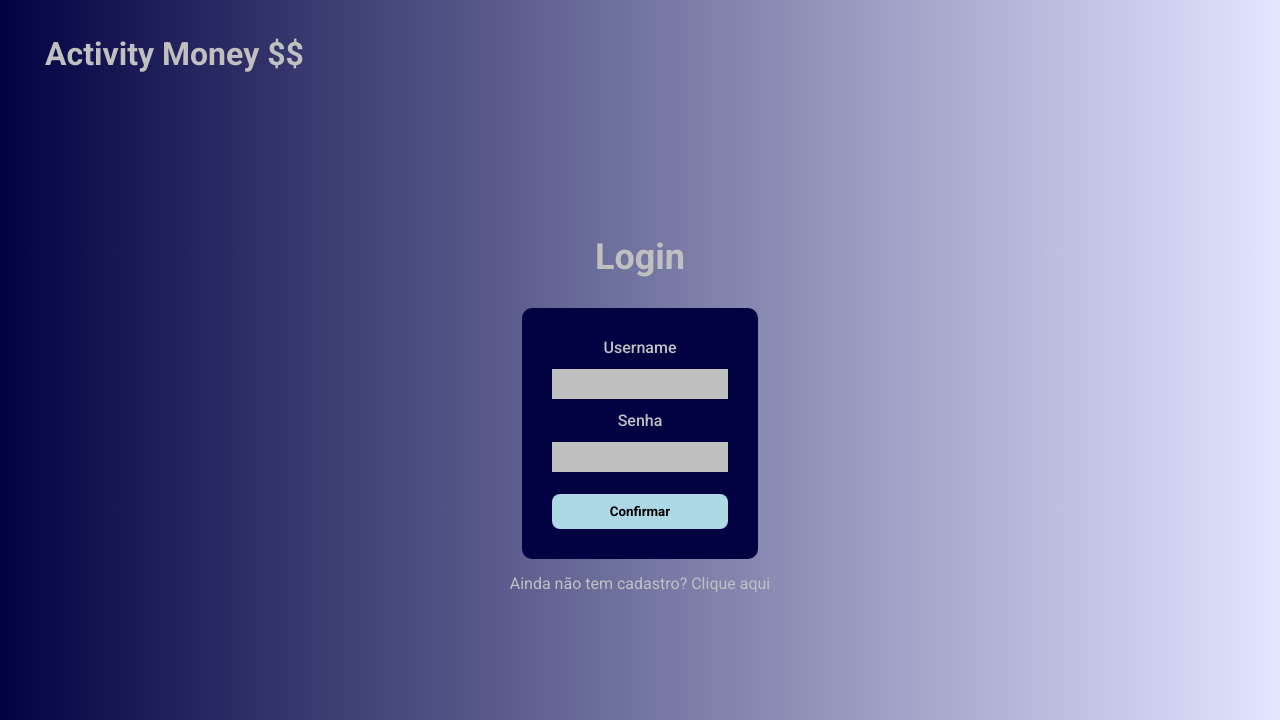
Scenario: Tests the Home page › should go back to Login page when clicks on "Sair"
This screenshot has width=1280, height=720.
Step 1. Type "rafael" into the field with test id "input-username" → point(640, 384), box [552,369,728,399]
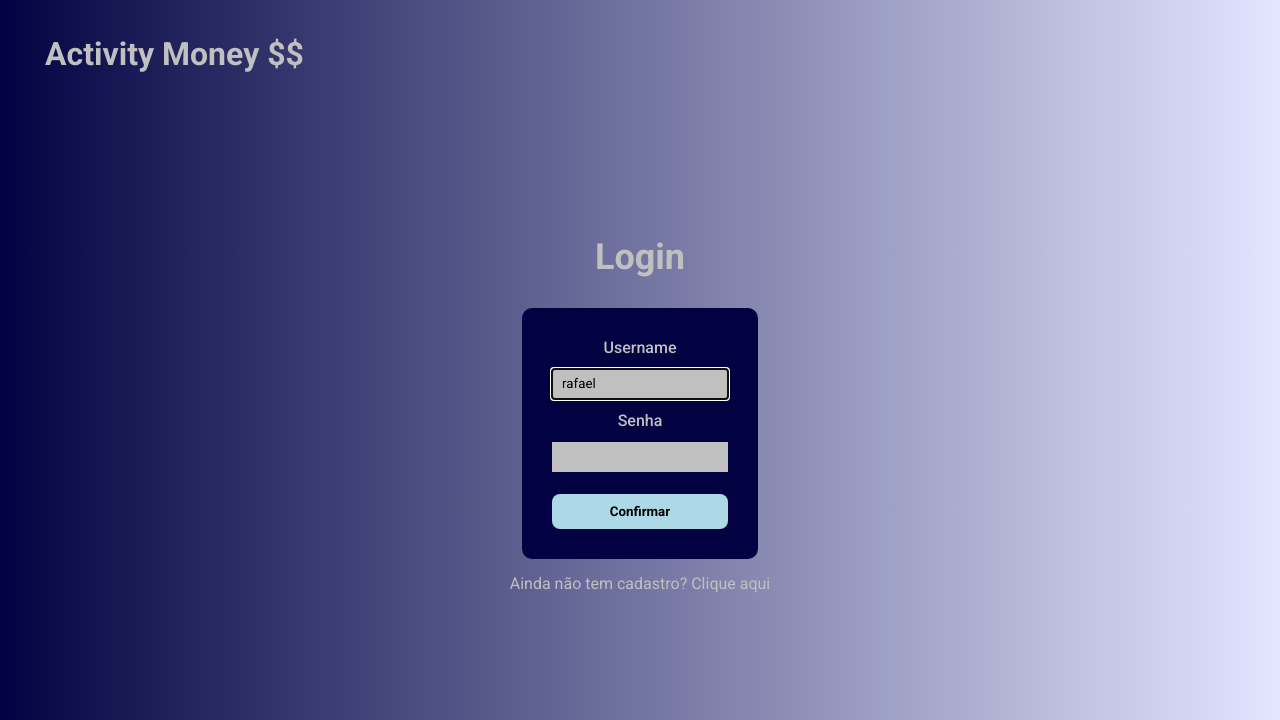
Step 2. Type "123456" into the password field with test id "input-password" → point(640, 457), box [552,442,728,472]
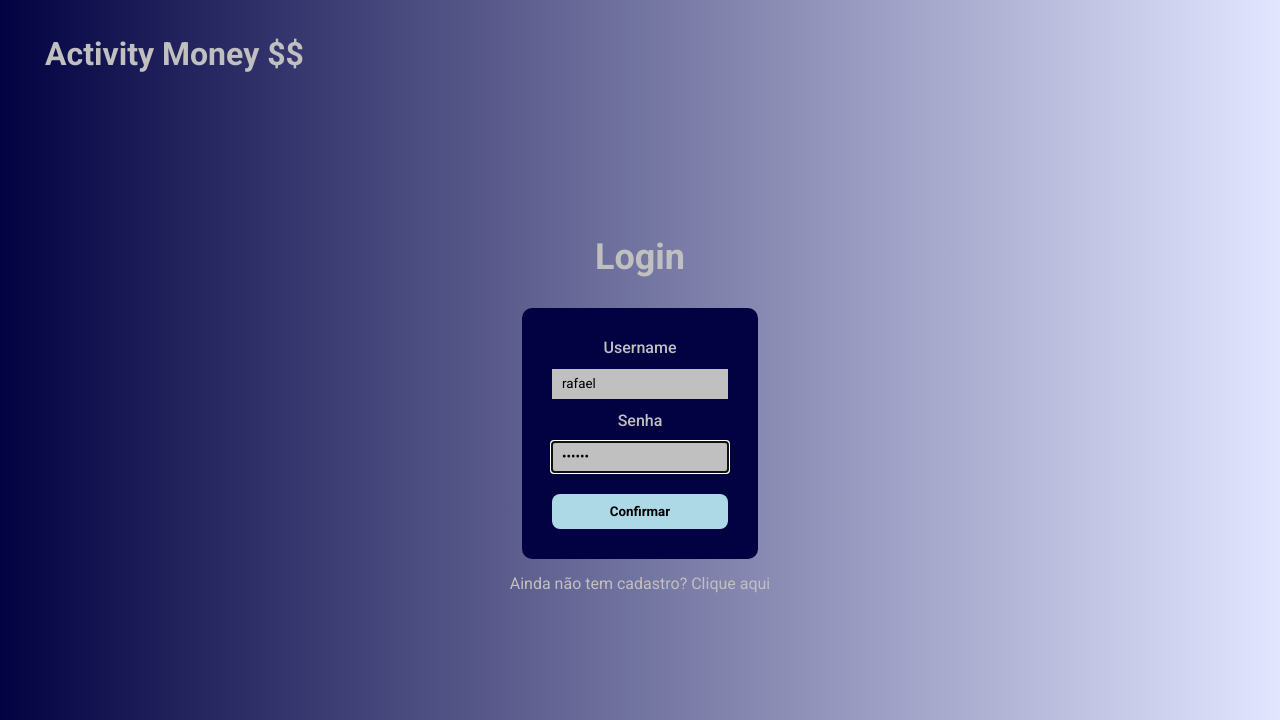
Step 3. Click the button "Confirmar" → point(640, 512), box [552,494,728,529]
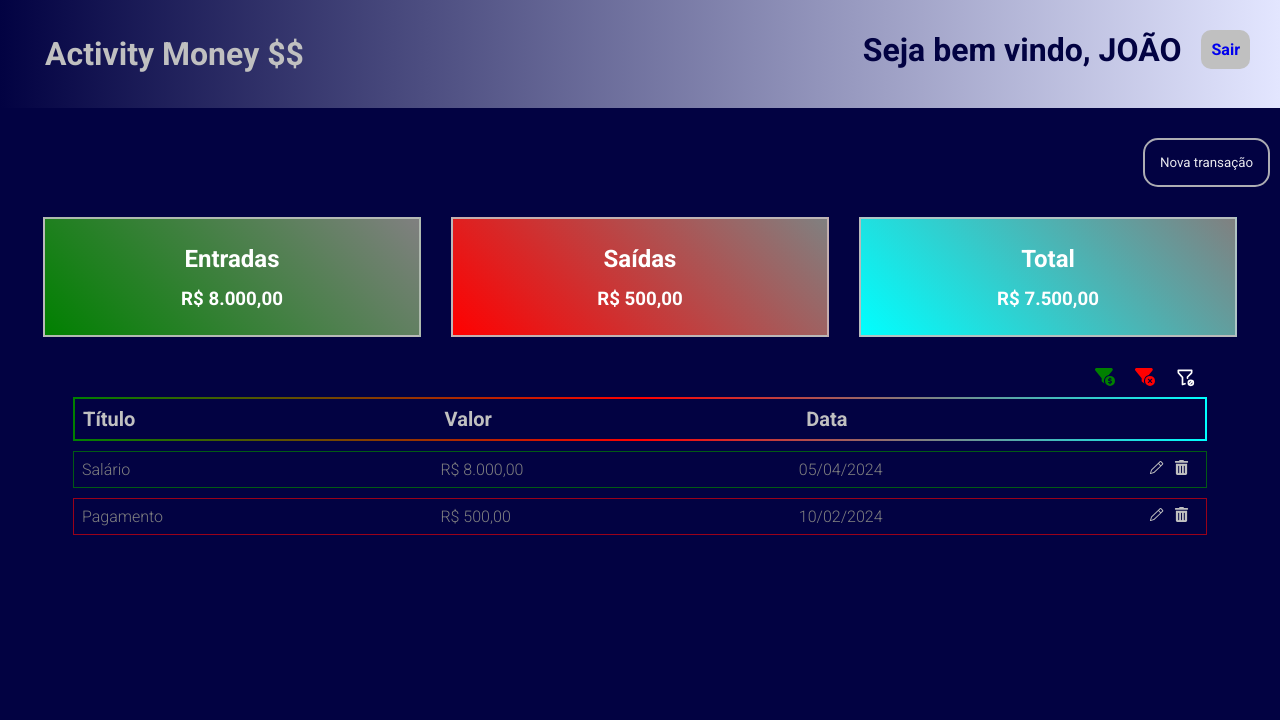
Step 4. Click the link "Sair" → point(1227, 50), box [1202,30,1251,69]
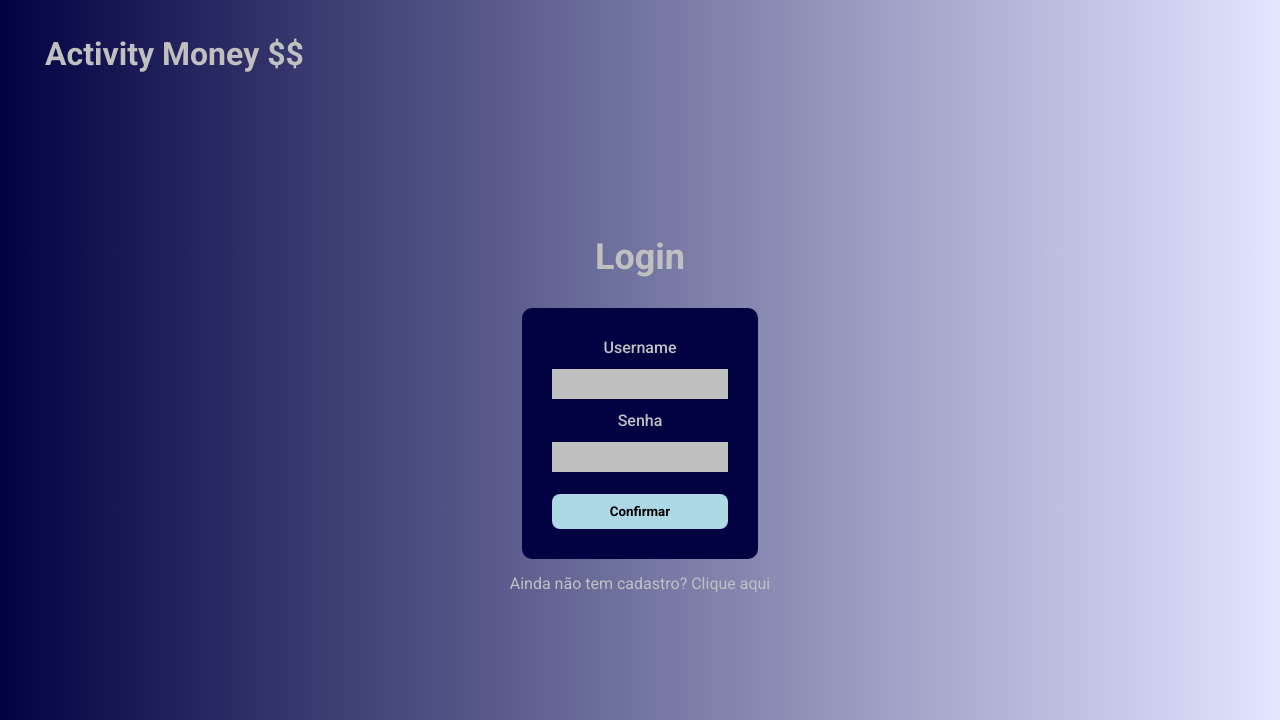
Result: the heading "Login" is shown at [595,236,685,278]
